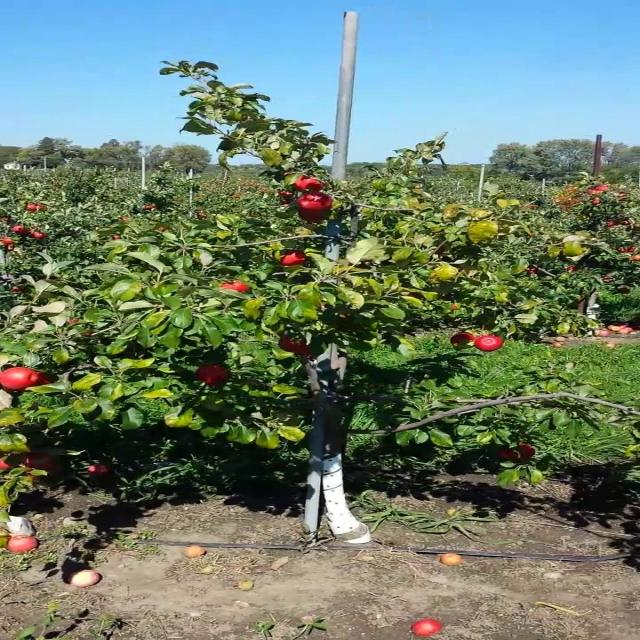apple: (0, 366, 47, 391), (196, 364, 229, 386), (296, 192, 333, 211), (278, 335, 311, 356), (278, 335, 311, 355), (498, 444, 536, 461), (24, 452, 56, 469), (293, 175, 324, 192), (473, 334, 502, 351), (299, 208, 331, 222), (282, 341, 311, 356), (280, 250, 307, 266), (449, 332, 476, 348), (220, 280, 251, 292), (33, 372, 56, 386), (87, 464, 111, 477), (0, 455, 20, 469), (0, 456, 16, 469)
